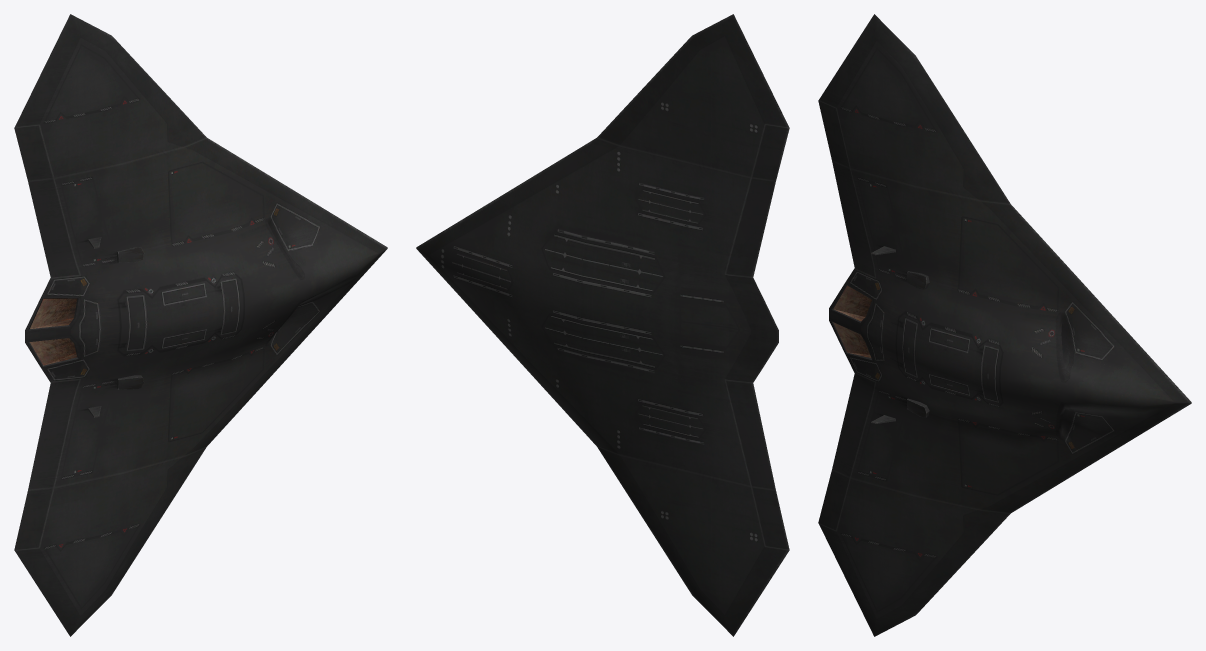
Rendered from veh_t6_drone_pegasus_mp_LOD1.obj.
3 renders of one model, left to right at view 1: azimuth 30°, elevation 25°; view 2: azimuth 150°, elevation 25°; view 3: azimuth 330°, elevation 25°, orthographic.
Parts seen in each view (by area): view 1: mtl_veh_t6_pegasus_body; view 2: mtl_veh_t6_pegasus_body; view 3: mtl_veh_t6_pegasus_body.
Boxes of the visible parts, <box> form: mtl_veh_t6_pegasus_body: <box>14,14,387,636</box>; mtl_veh_t6_pegasus_body: <box>416,14,789,636</box>; mtl_veh_t6_pegasus_body: <box>818,14,1191,636</box>.
Size of the model in its own units: 711 by 1134 by 125.
